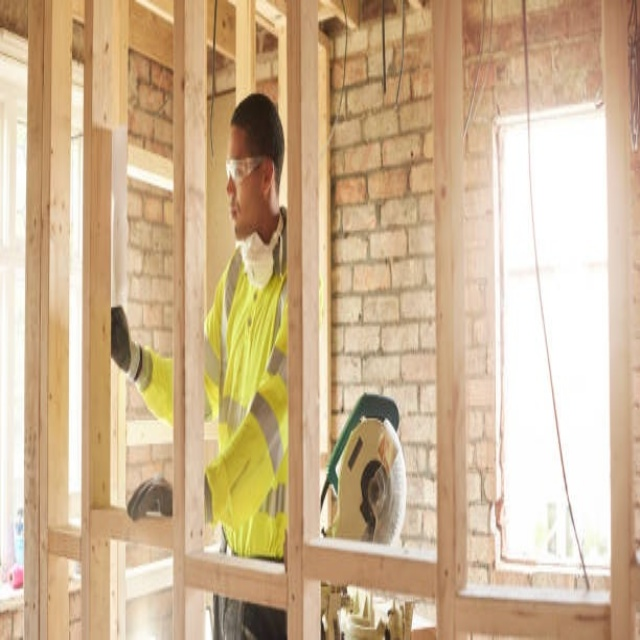Gafas: (226, 156, 269, 184)
Guantes: (111, 304, 147, 386), (127, 474, 172, 520)
Sin_mascara: (226, 194, 251, 243)
